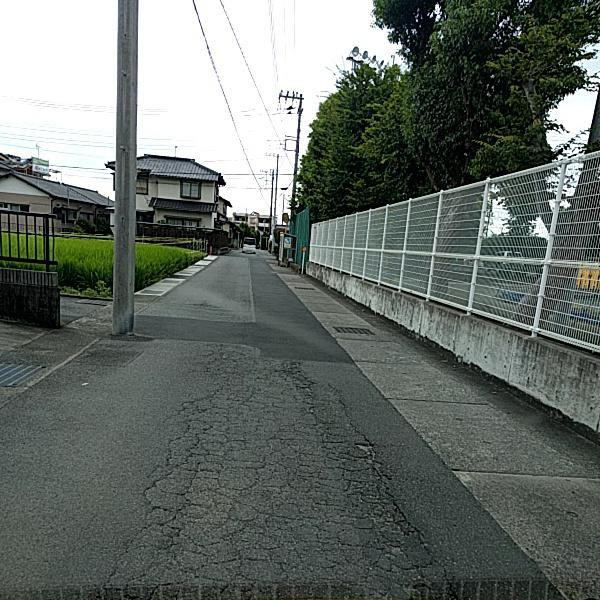D20: (110, 350, 465, 598)
D40: (347, 435, 392, 483)
